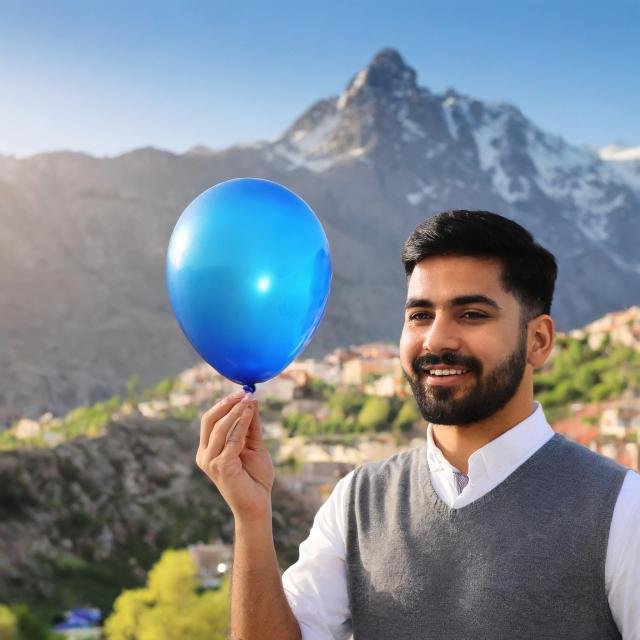blue: (168, 176, 335, 399)
